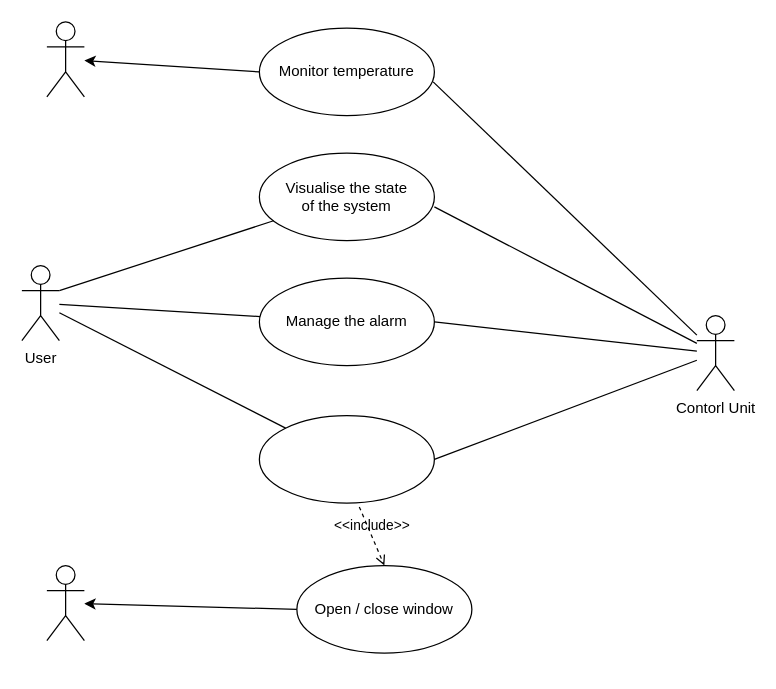
This 776x689 diagram has some shape labels left out. The shapes that lost their labels are listed below. From the top down, each one's centre as x and y in pixels, then its label:
At [65,59]: "ESP32".
At [346,458]: "Control the opening of the window".
At [65,602]: "Arduino".
